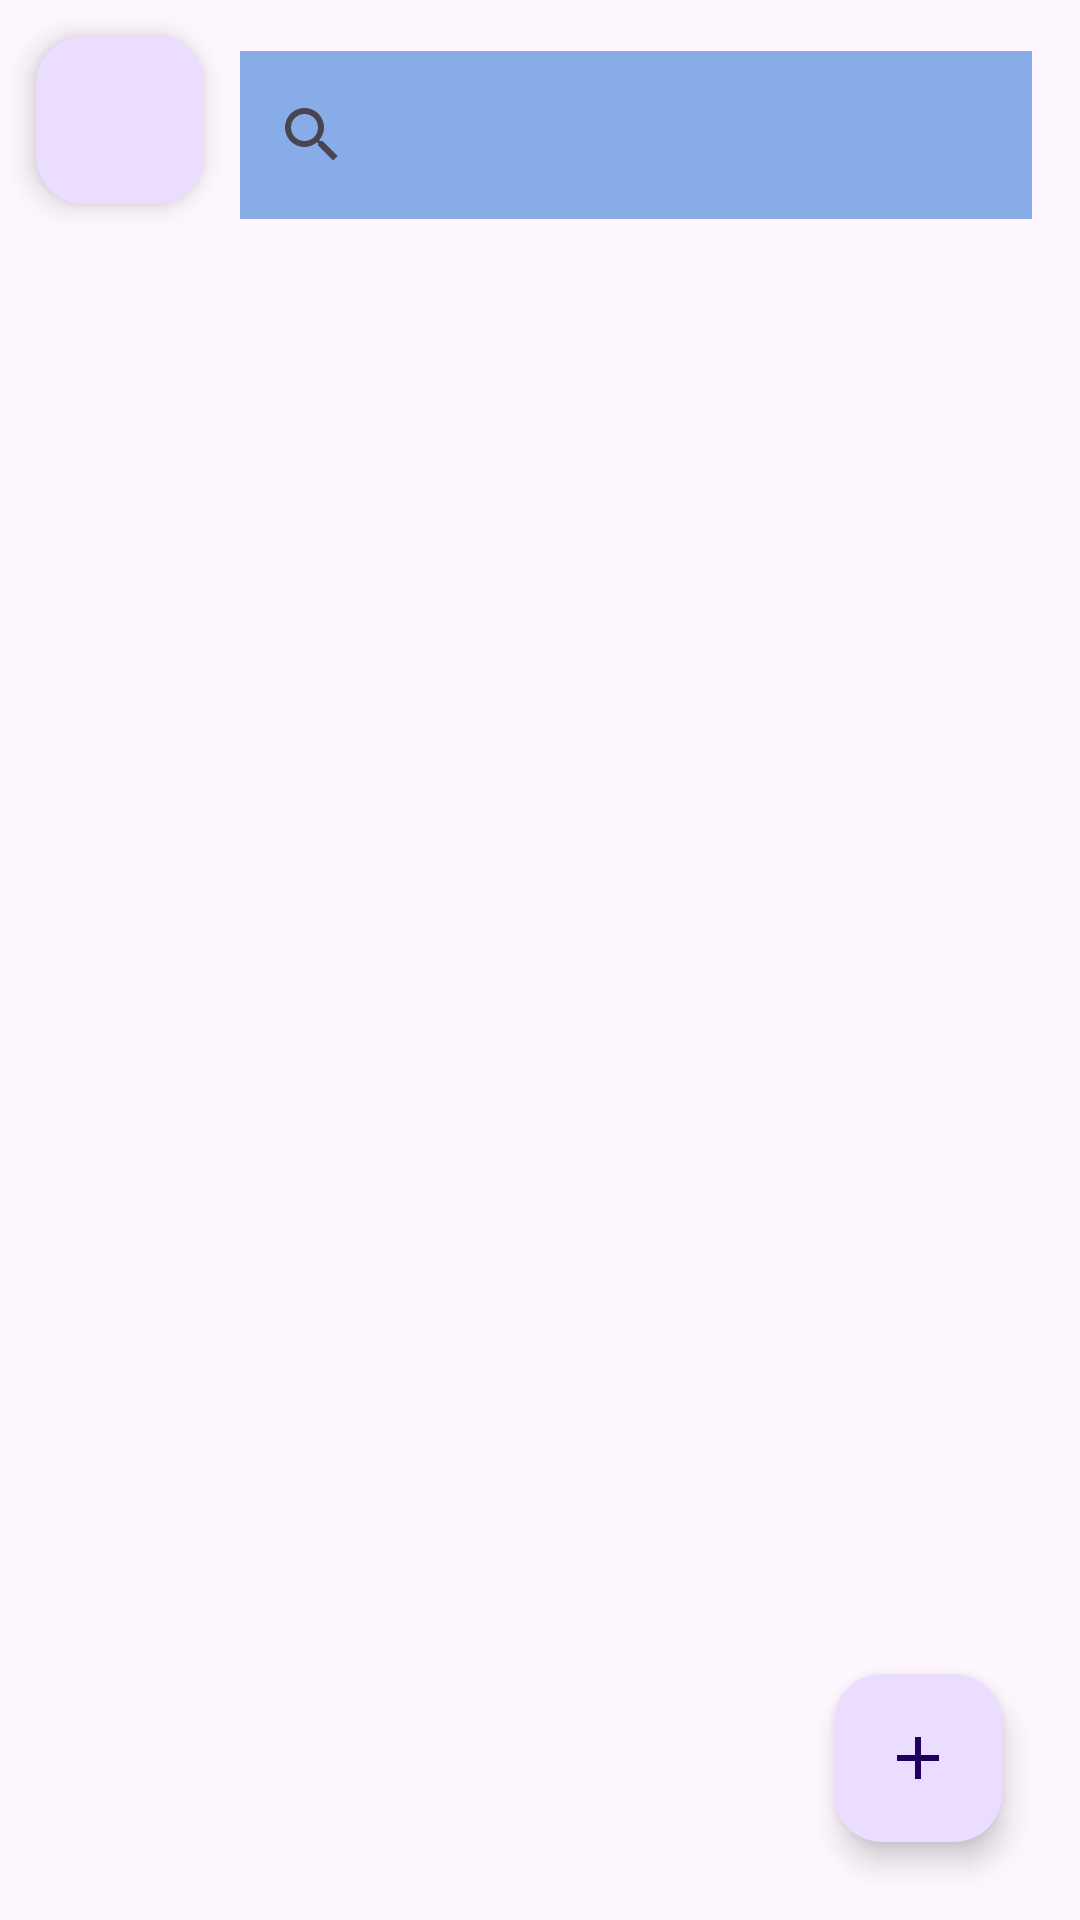

Named icons in this screenshot (1080w x 1920h) and their centers, (x,y):
plus: (918,1758)
